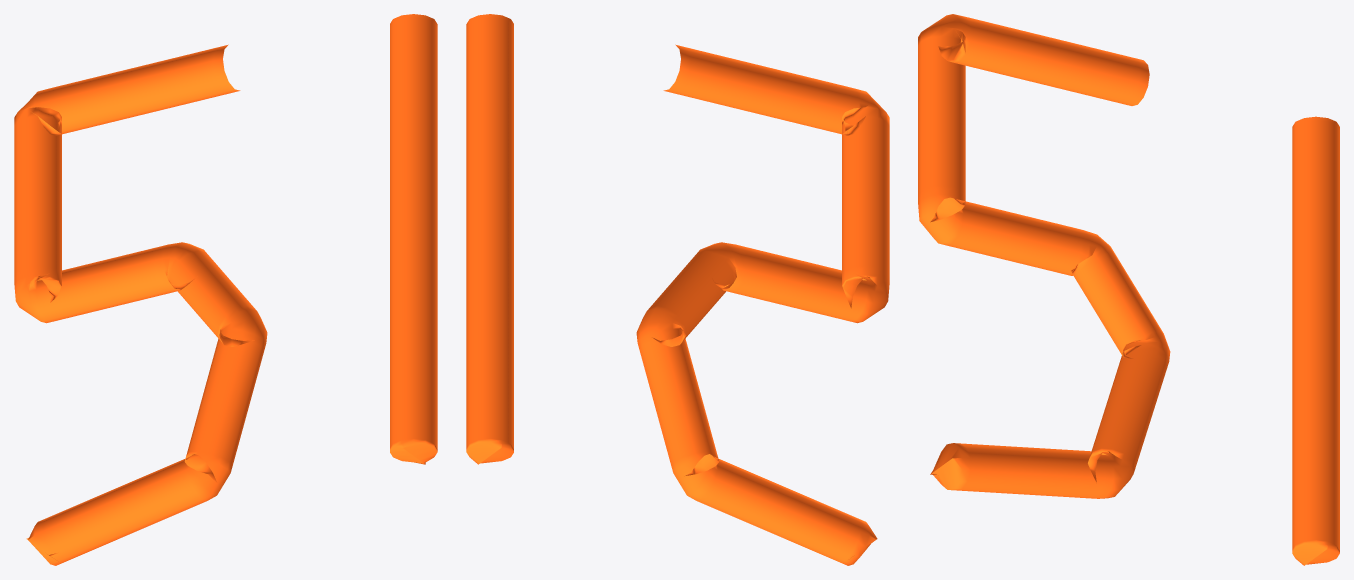
3 renders of one model, left to right at view 1: azimuth 30°, elevation 25°; view 2: azimuth 150°, elevation 25°; view 3: azimuth 330°, elevation 25°, orthographic.
Visible parts, largest first — view 1: MorphMesh; view 2: MorphMesh; view 3: MorphMesh.
Part boxes in pixels (x1=…): MorphMesh: x1=14, y1=14, x2=437, y2=565; MorphMesh: x1=466, y1=14, x2=889, y2=565; MorphMesh: x1=918, y1=14, x2=1339, y2=565.
Size of the model in its own units: 2.12 by 2.3 by 0.21.
